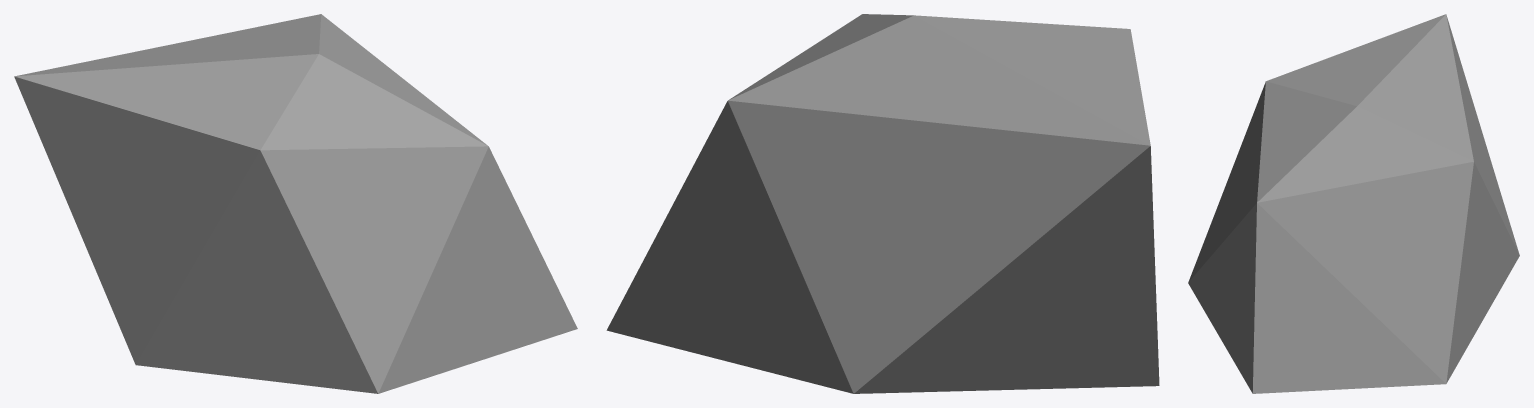
Rendered from rock2.fbx.
The picture shows the model from 3 angles, left to right: view 1: azimuth 30°, elevation 25°; view 2: azimuth 150°, elevation 25°; view 3: azimuth 270°, elevation 25°; orthographic projection. The views are drawn at different scales.
Visible parts, largest first — view 1: Icosphere.004; view 2: Icosphere.004; view 3: Icosphere.004.
Boxes of the visible parts, left/top/right/bottom form: Icosphere.004: left=14, top=14, right=577, bottom=393; Icosphere.004: left=606, top=14, right=1159, bottom=393; Icosphere.004: left=1188, top=14, right=1519, bottom=393.
Size of the model in its own units: 26.9 by 15.93 by 22.37.
